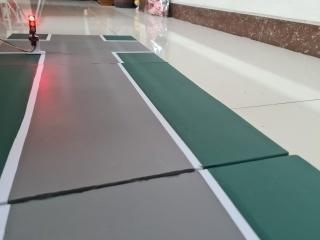red: (25, 11, 41, 41)
